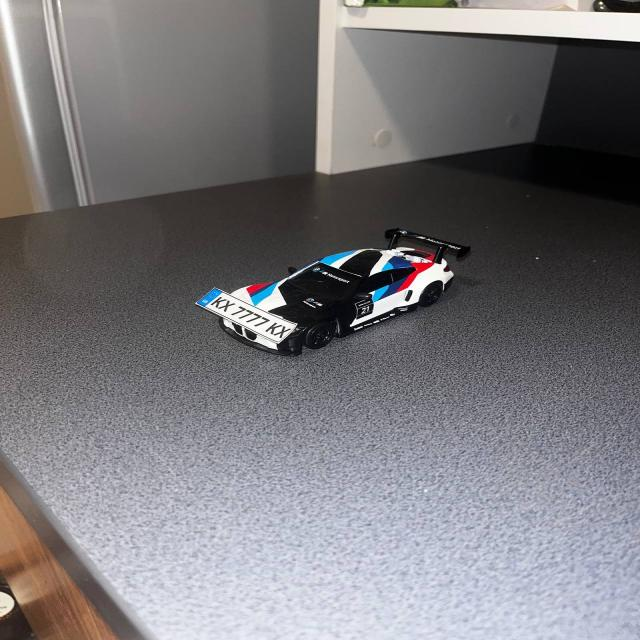cars: (198, 228, 483, 364)
